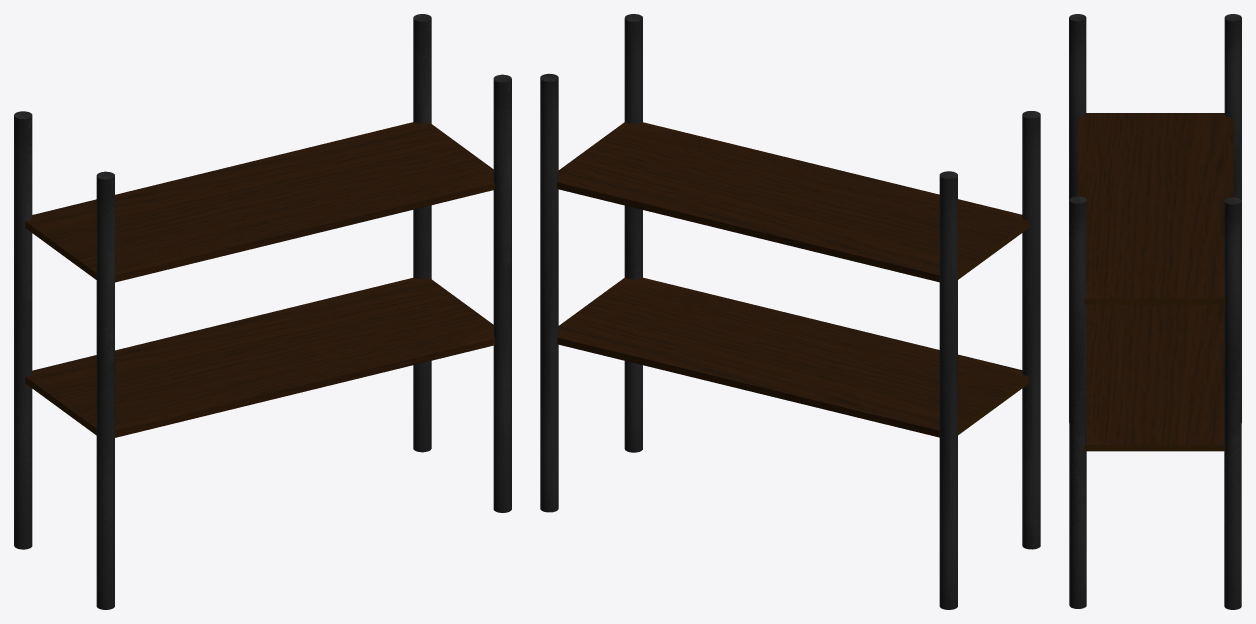
Rendered from shelf_model.fbx.
3 views of the same model, side by side, from view 1: azimuth 30°, elevation 25°; view 2: azimuth 150°, elevation 25°; view 3: azimuth 270°, elevation 25° (orthographic). The views are drawn at different scales.
Visible parts, largest first — view 1: pCube3, pCube2, pCylinder2, pCylinder3, pCylinder1, pCylinder4; view 2: pCube3, pCube2, pCylinder1, pCylinder4, pCylinder2, pCylinder3; view 3: pCube3, pCube2, pCylinder4, pCylinder3, pCylinder1, pCylinder2.
Part boxes in pixels (<box>): pCube3: <box>25,122,494,282</box>; pCube2: <box>25,277,495,437</box>; pCylinder2: <box>96,171,114,609</box>; pCylinder3: <box>493,74,511,512</box>; pCylinder1: <box>14,111,32,549</box>; pCylinder4: <box>413,14,431,452</box>; pCube3: <box>557,122,1029,282</box>; pCube2: <box>557,277,1029,437</box>; pCylinder1: <box>939,171,957,609</box>; pCylinder4: <box>540,73,558,512</box>; pCylinder2: <box>1022,111,1040,549</box>; pCylinder3: <box>624,14,642,452</box>; pCube3: <box>1077,113,1233,304</box>; pCube2: <box>1084,305,1224,451</box>; pCylinder4: <box>1224,197,1241,609</box>; pCylinder3: <box>1069,196,1086,608</box>; pCylinder1: <box>1224,14,1241,422</box>; pCylinder2: <box>1069,14,1086,422</box>.
Bounding box in the file's own units: 35.64 × 35.32 × 13.65.
2 materials, 2 textured.
